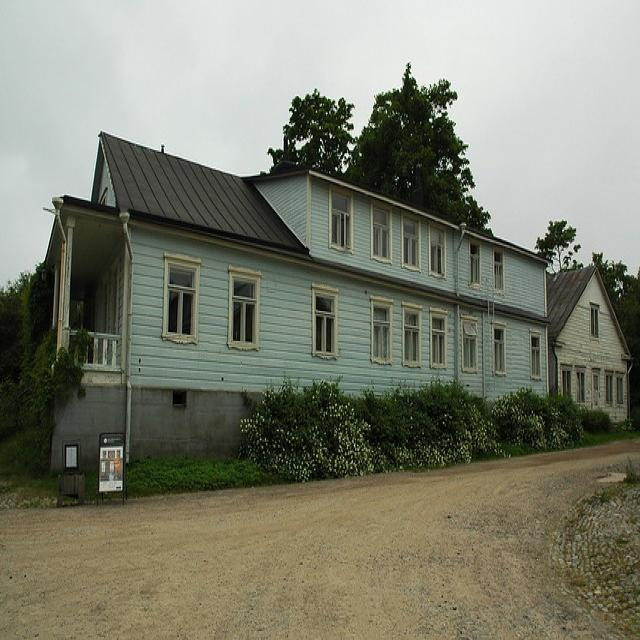Normal_building: (41, 124, 552, 481), (550, 264, 636, 436)
